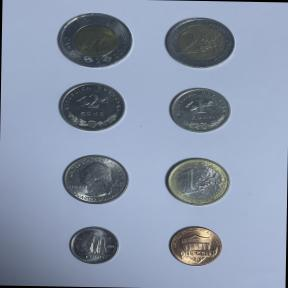coin: (52, 9, 138, 72), (161, 13, 240, 73), (58, 150, 133, 207), (161, 154, 234, 212), (55, 79, 130, 135), (164, 222, 225, 271), (64, 223, 124, 269)
